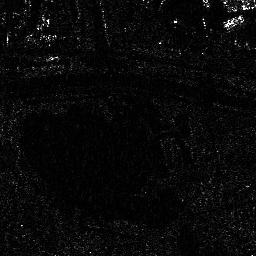ship: (222, 13, 245, 33)
